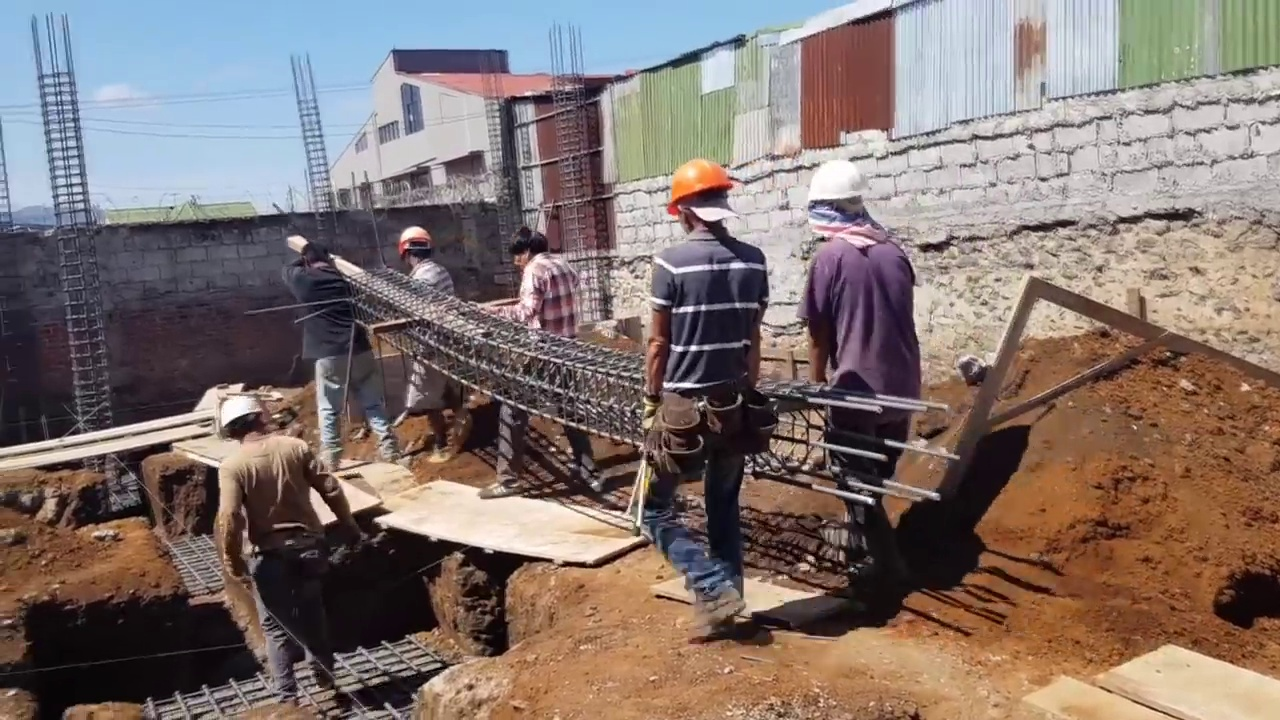helmet: (666, 157, 737, 216), (801, 151, 874, 206), (219, 396, 262, 431), (395, 222, 435, 251)
helmet-off: (506, 224, 546, 269), (299, 245, 329, 270)
helmet-on: (803, 155, 874, 245), (667, 160, 738, 241), (218, 395, 264, 445), (397, 226, 433, 273)
person: (642, 157, 776, 636), (799, 149, 925, 625), (210, 392, 359, 705), (478, 221, 599, 499), (292, 238, 366, 472), (389, 223, 458, 464)
